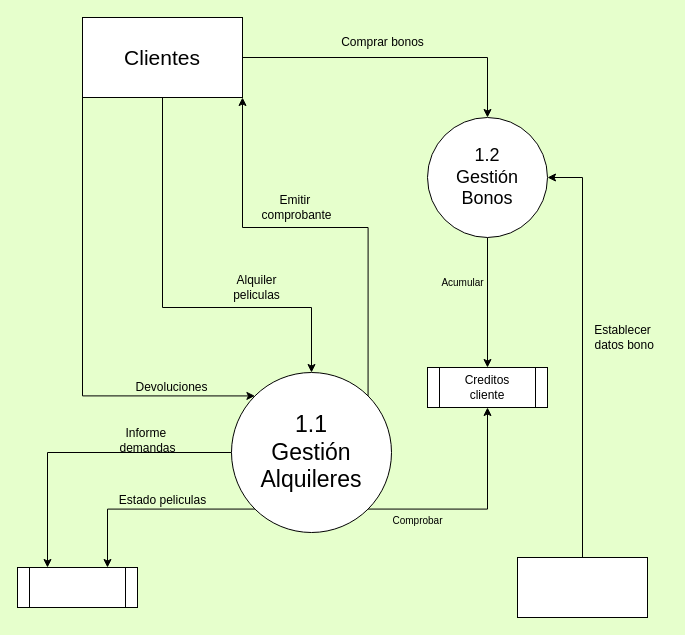
Some shapes in this 685 by 635 pixel diagram are drawn without their labels. Each missing label, with the centre of its shape:
"Dirección Videoclub" belongs at point (582, 587).
"Stock peliculas" belongs at point (77, 587).
